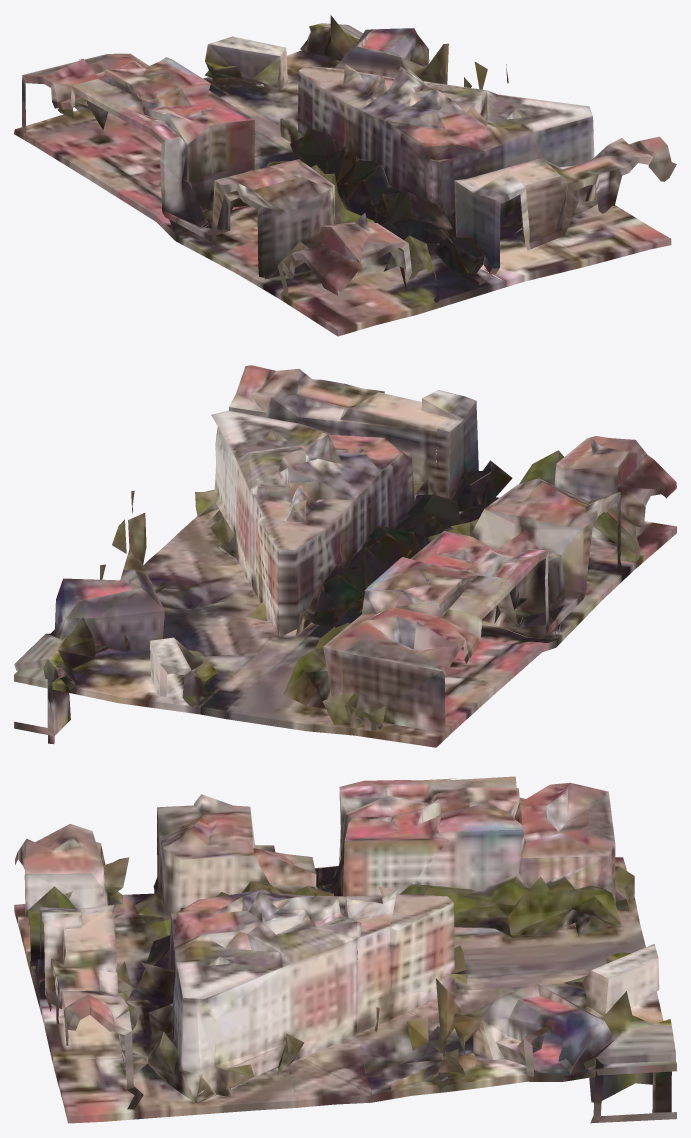
3 renders of one model, top to bottom at view 1: azimuth 30°, elevation 25°; view 2: azimuth 150°, elevation 25°; view 3: azimuth 270°, elevation 25°, orthographic. The views are drawn at different scales.
Parts seen in each view (by area): view 1: Mesh_0; view 2: Mesh_0; view 3: Mesh_0.
Boxes of the visible parts, left/top/right/bottom form: Mesh_0: left=14, top=15, right=676, bottom=336; Mesh_0: left=14, top=365, right=676, bottom=747; Mesh_0: left=14, top=776, right=676, bottom=1123.
Bounding box in the file's own units: 135 × 50.24 × 165.
Materials: 1 (1 with a texture image).
